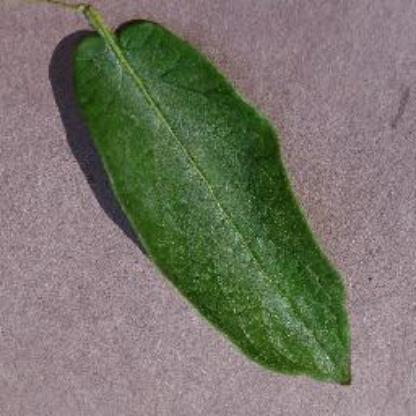Healthy-plant: (43, 2, 363, 390)
